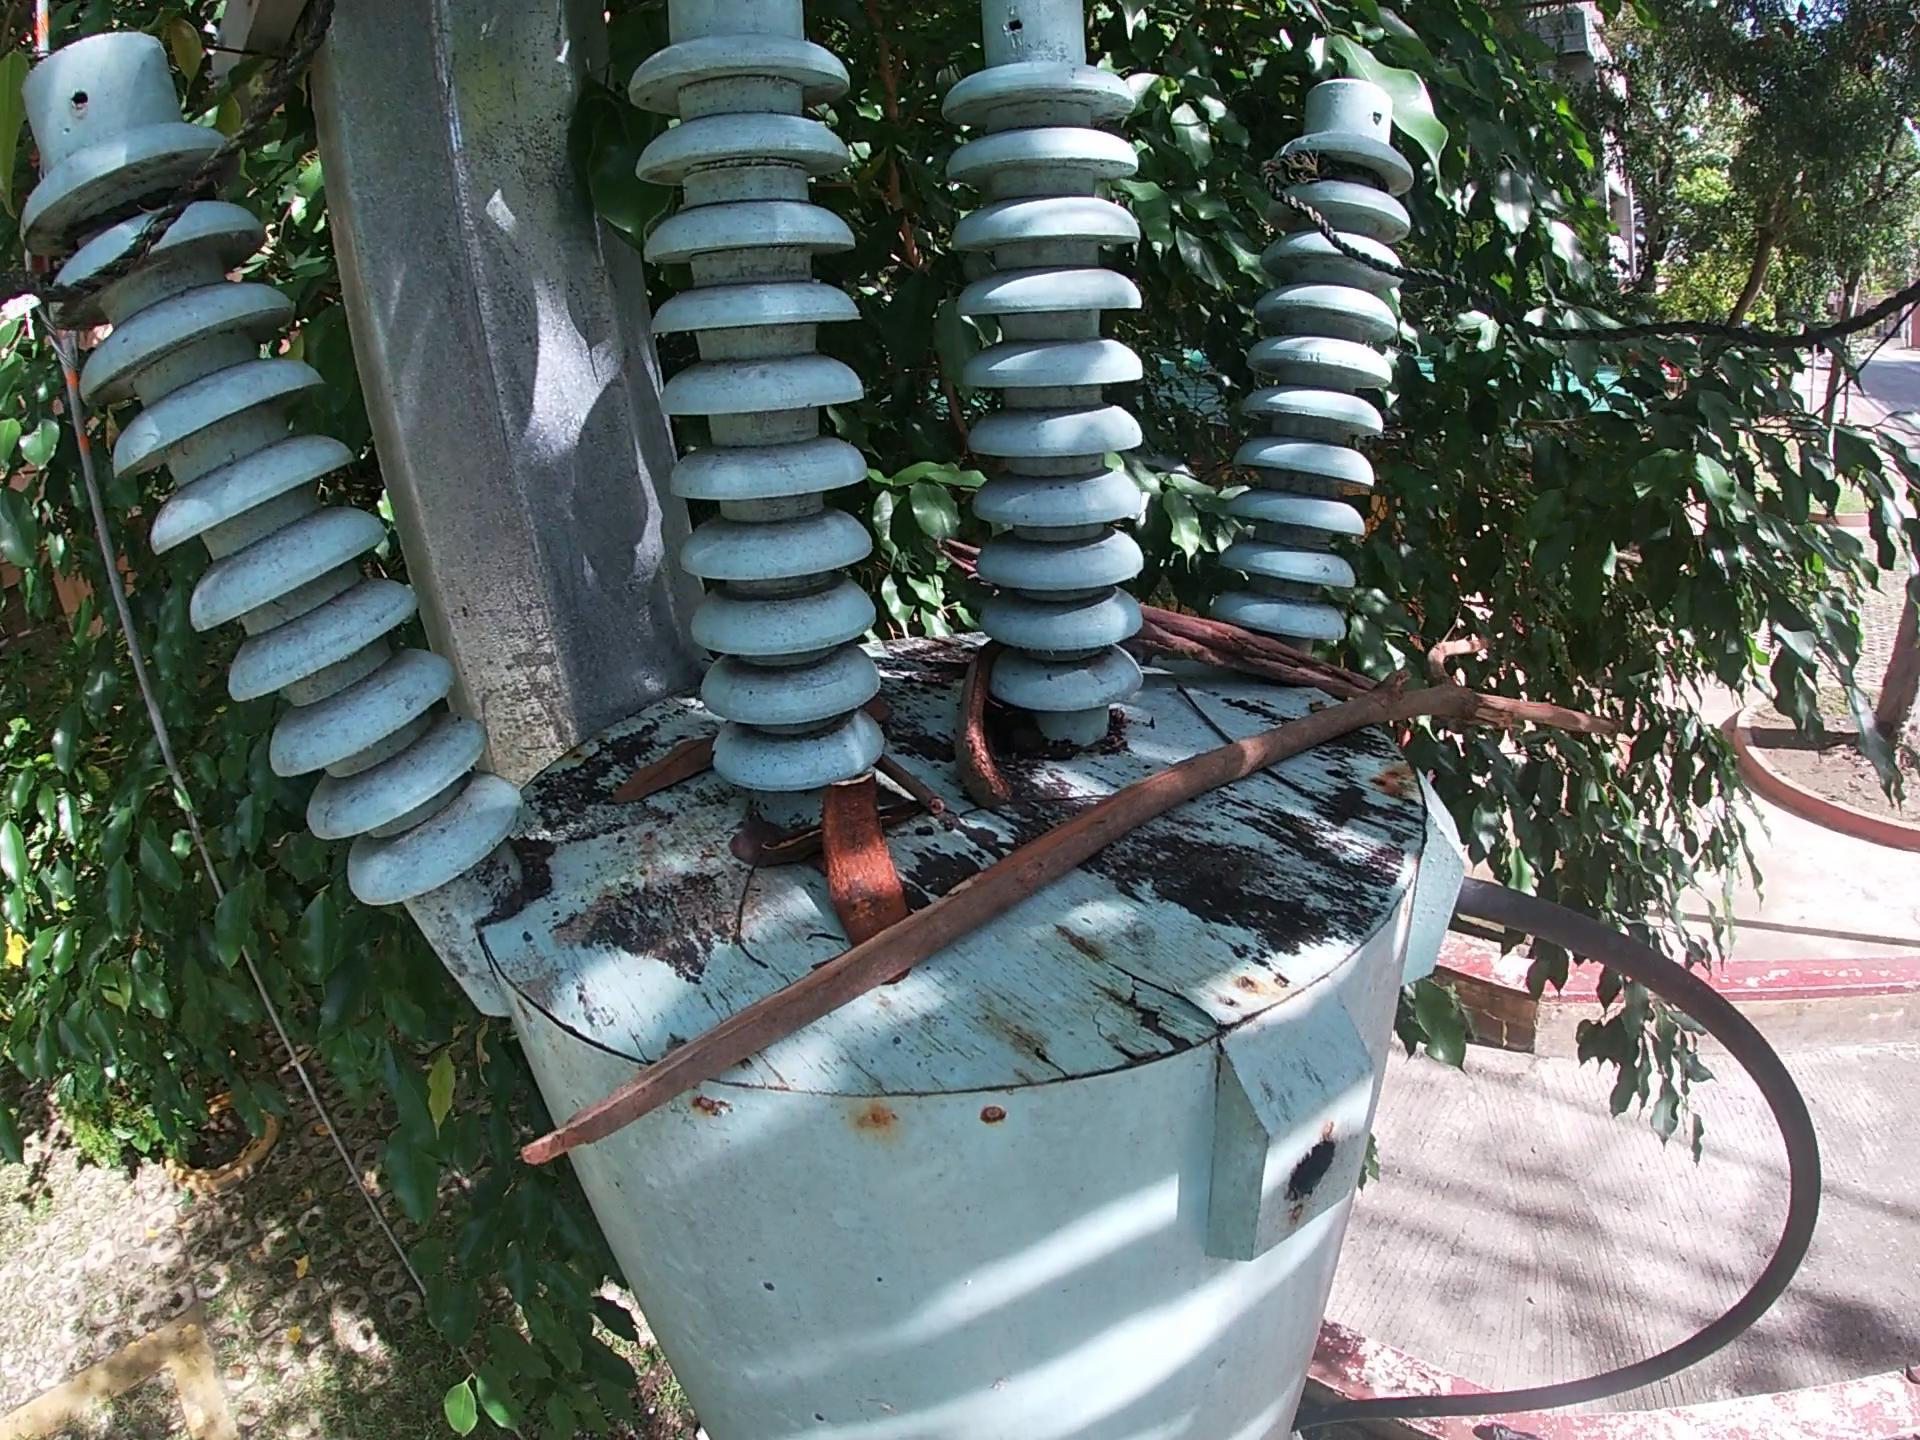leaf: (605, 732, 732, 805), (857, 693, 897, 732)
mahogany fruit: (815, 768, 912, 953), (943, 632, 1017, 815)
tree branch: (508, 628, 1637, 1175), (1123, 604, 1400, 706), (877, 756, 948, 821)
